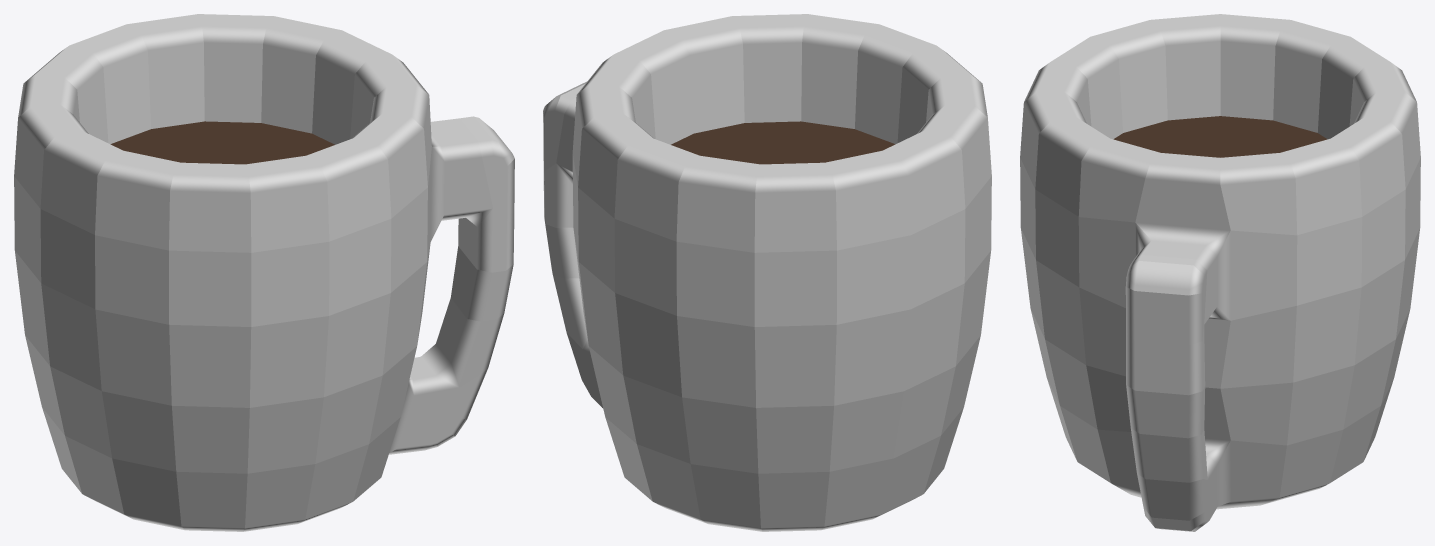
File: mug.fbx
3 views of the same model, side by side, from view 1: azimuth 30°, elevation 25°; view 2: azimuth 150°, elevation 25°; view 3: azimuth 270°, elevation 25° (orthographic). The views are drawn at different scales.
Parts seen in each view (by area): view 1: Mug; view 2: Mug; view 3: Mug.
Boxes of the visible parts, left/top/right/bottom form: Mug: left=14, top=14, right=514, bottom=531; Mug: left=543, top=14, right=991, bottom=531; Mug: left=1020, top=14, right=1420, bottom=531.
Size of the model in its own units: 28.25 by 23.03 by 23.57.
